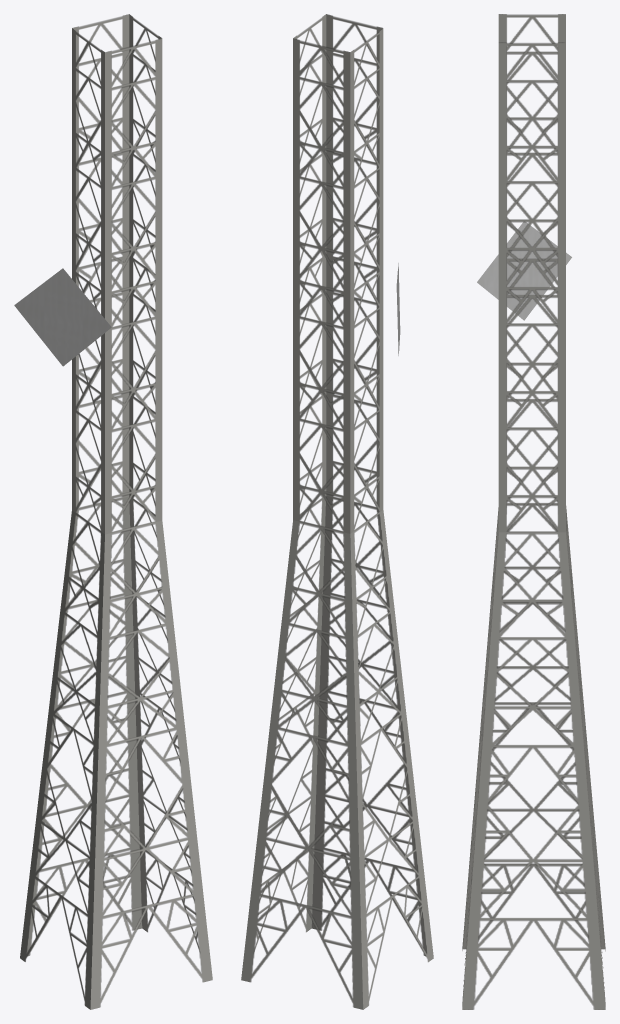
File: tower-radio-60m-cbj_LOD03.gltf
The picture shows the model from 3 angles, left to right: view 1: azimuth 30°, elevation 25°; view 2: azimuth 150°, elevation 25°; view 3: azimuth 270°, elevation 25°; orthographic projection.
Parts seen in each view (by area): view 1: post03; view 2: post03; view 3: post03.
Part boxes in pixels (box(x1,y1,x2,y2)): post03: box(14, 14, 212, 1009); post03: box(241, 14, 433, 1009); post03: box(462, 14, 605, 1009).
Size of the model in its own units: 9.75 by 60 by 8.2.
